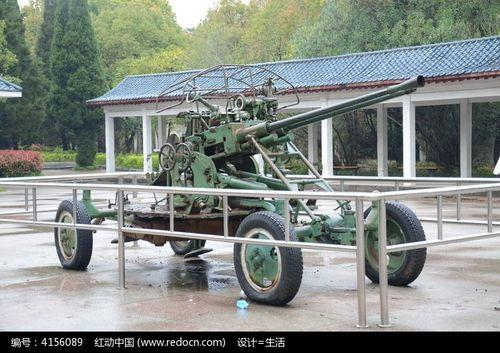MIL_SPG: (55, 188, 426, 305), (151, 77, 424, 193)
